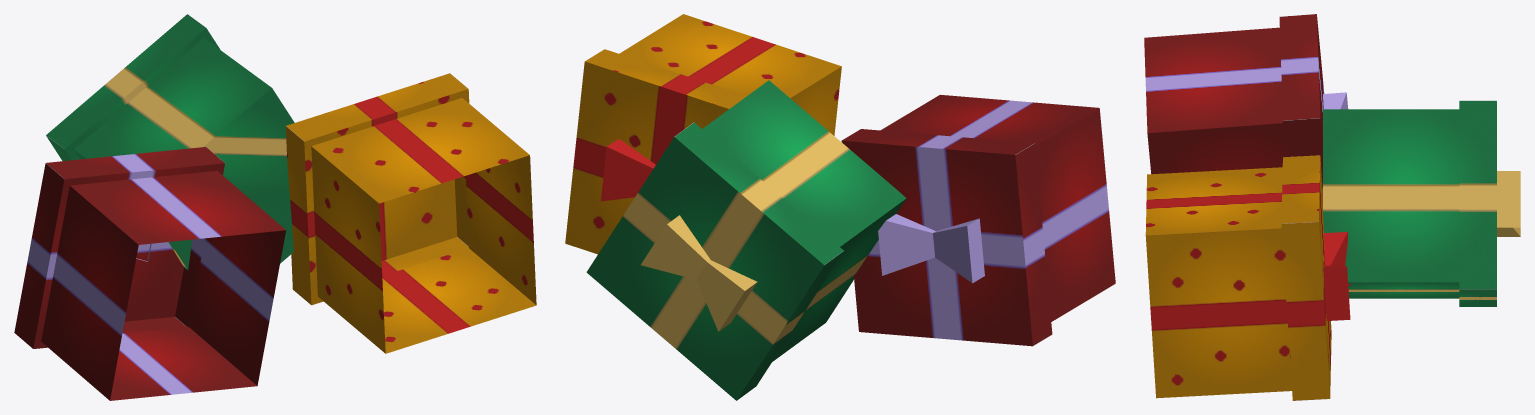
The model's file is EnviroSet3.fbx.
3 renders of one model, left to right at view 1: azimuth 30°, elevation 25°; view 2: azimuth 150°, elevation 25°; view 3: azimuth 270°, elevation 25°, orthographic. The views are drawn at different scales.
Visible parts, largest first — view 1: Present3, Present1, Present2; view 2: Present2, Present1, Present3; view 3: Present3, Present2, Present1.
Boxes of the visible parts, box(x1,y1,x2,y2) form: Present3: box(285, 73, 536, 353); Present1: box(14, 147, 285, 400); Present2: box(46, 14, 294, 269); Present2: box(586, 80, 906, 400); Present1: box(841, 94, 1115, 346); Present3: box(565, 14, 841, 254); Present3: box(1145, 155, 1351, 400); Present2: box(1323, 100, 1520, 306); Present1: box(1144, 14, 1348, 193).
Size of the model in its own units: 0.7293 by 1.44 by 1.06.
